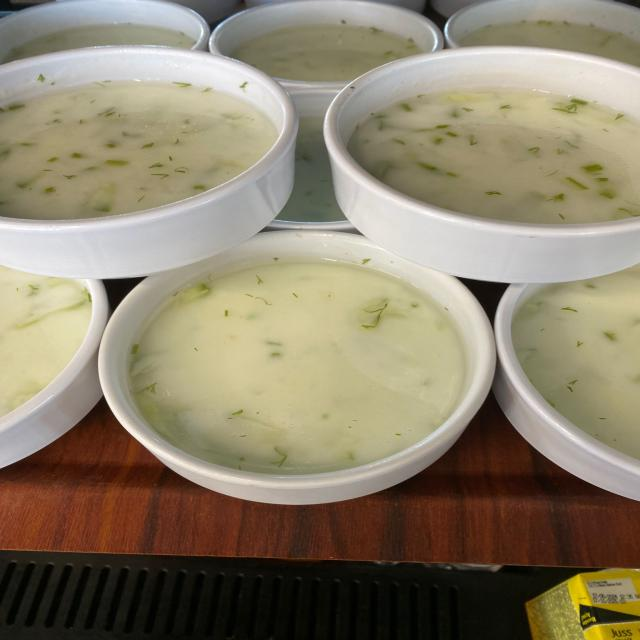corba: (152, 256, 444, 510), (336, 58, 640, 247), (15, 58, 282, 256)
